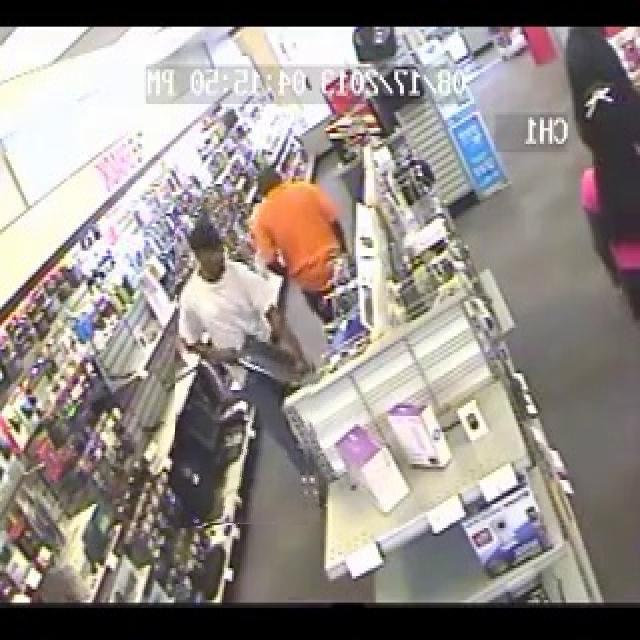Shoplifting: (175, 203, 317, 525)
